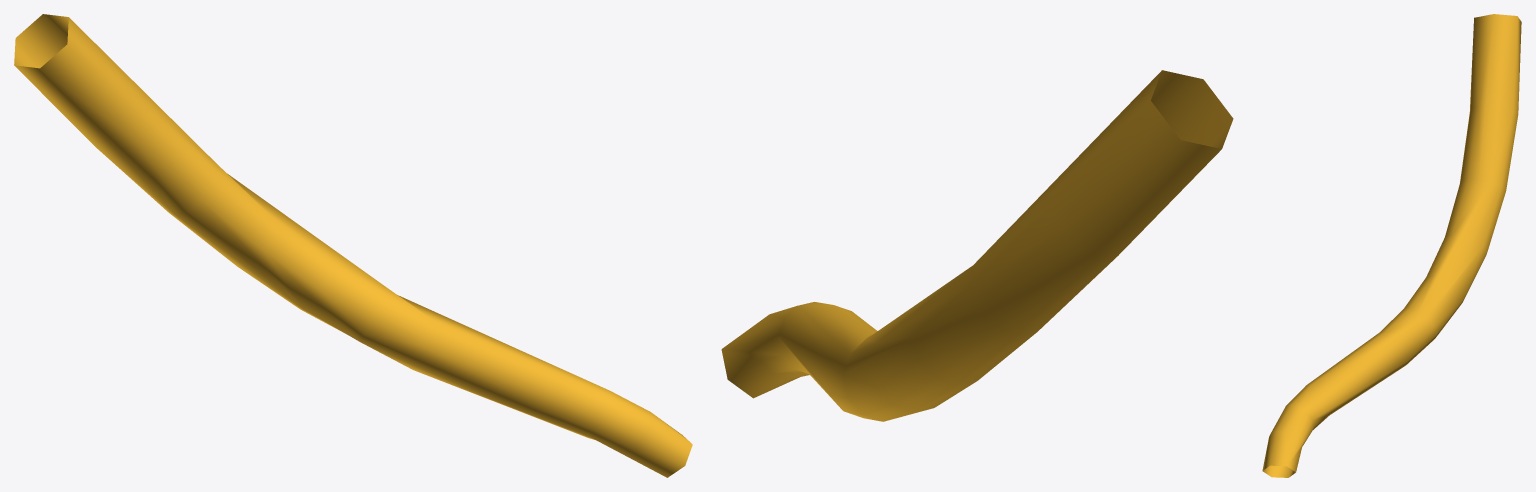
File: nervoso-anterior-division-of-superior-trunk-of-brachial-plexus-l.glb
3 renders of one model, left to right at view 1: azimuth 30°, elevation 25°; view 2: azimuth 150°, elevation 25°; view 3: azimuth 270°, elevation 25°, orthographic. The views are drawn at different scales.
Visible parts, largest first — view 1: Anterior division of superior trunk of brachial plexus.l; view 2: Anterior division of superior trunk of brachial plexus.l; view 3: Anterior division of superior trunk of brachial plexus.l.
Part boxes in pixels (<box>): Anterior division of superior trunk of brachial plexus.l: <box>14,14,692,477</box>; Anterior division of superior trunk of brachial plexus.l: <box>721,70,1233,421</box>; Anterior division of superior trunk of brachial plexus.l: <box>1262,14,1521,477</box>.
Size of the model in its own units: 0.0244 by 0.0205 by 0.0153.
